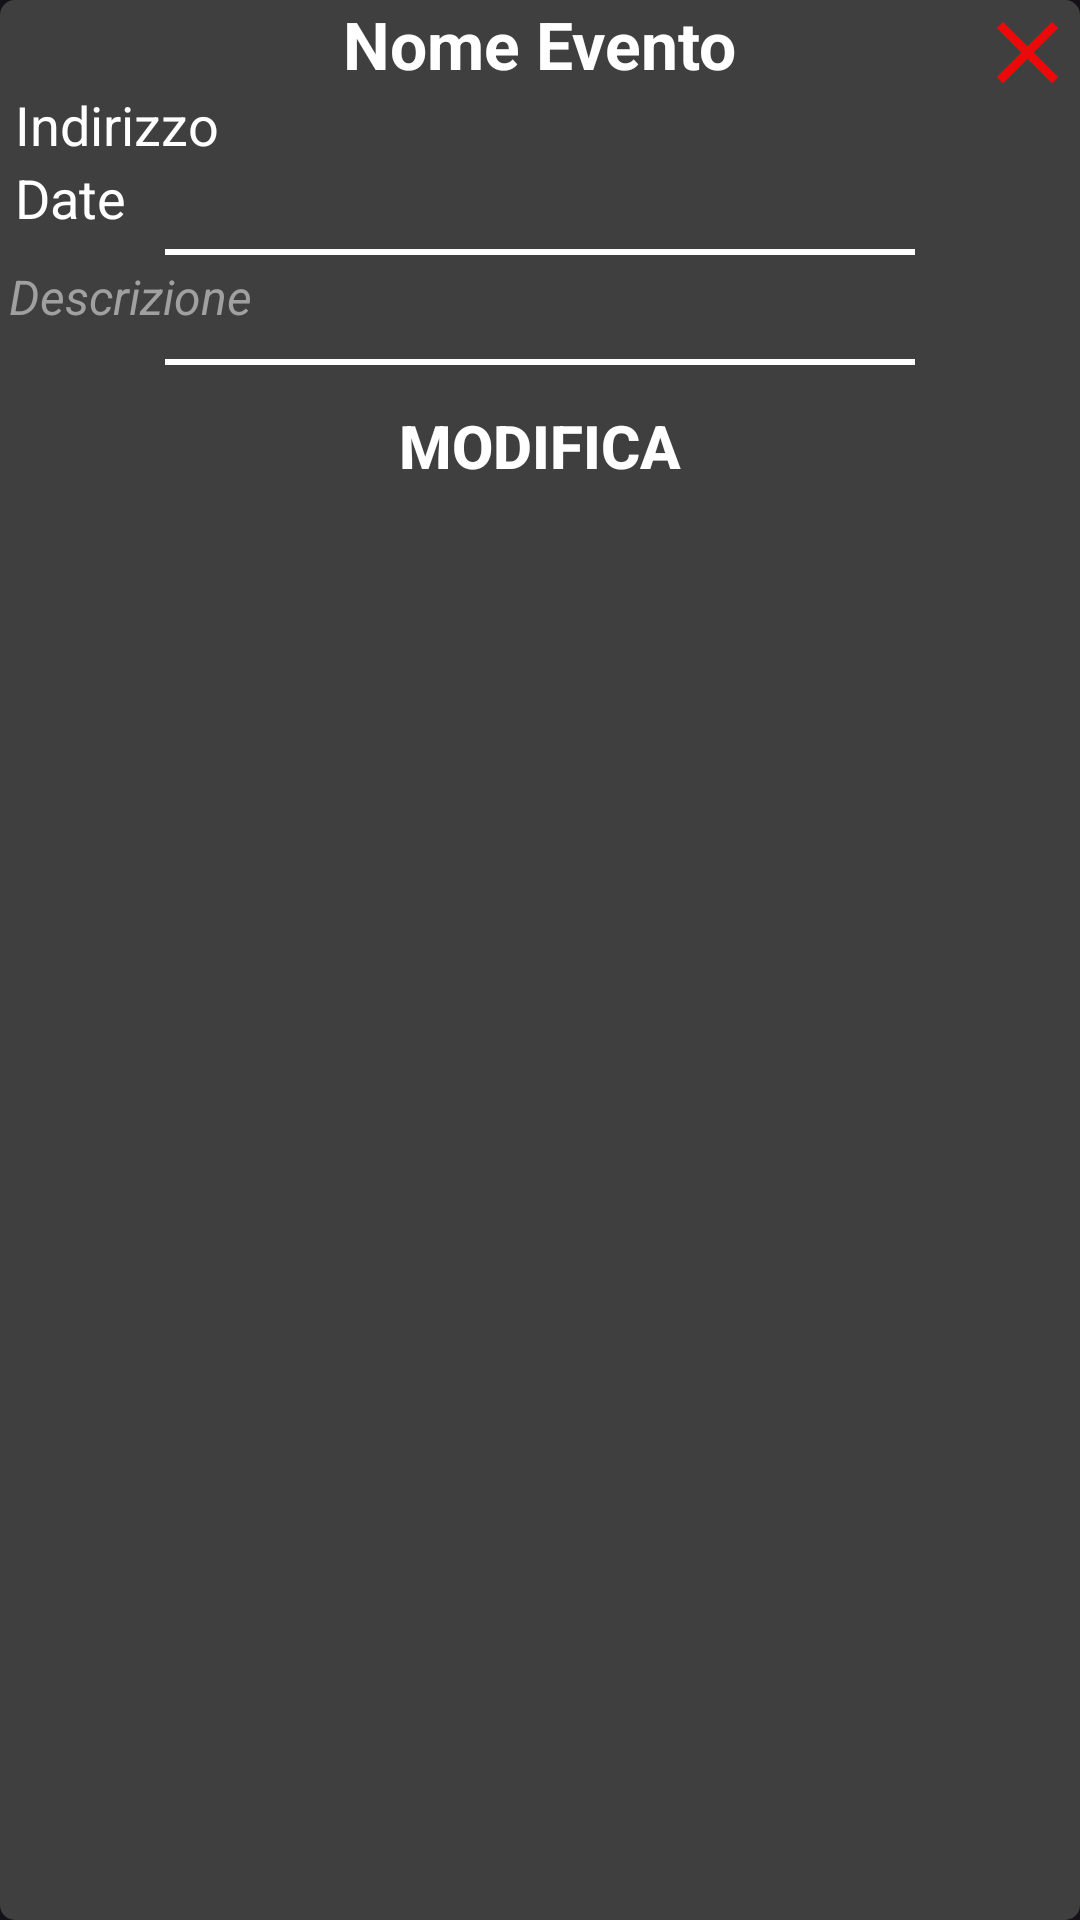

Named icons in this screenshot (1080*1920) and their centers, (x,y):
clear: (1038,41)
